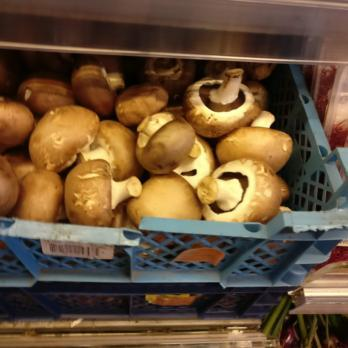Mushroom: (0, 59, 291, 217)
